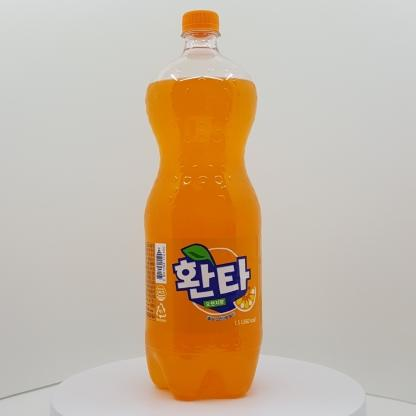-------1-5L: (144, 10, 263, 400)
